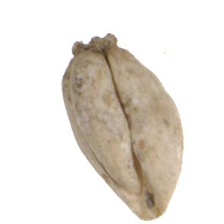L1: (120, 187, 175, 222), (69, 33, 124, 55)
L2: (60, 34, 184, 221)
